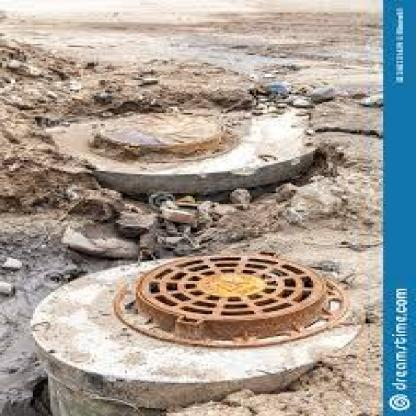closed manhole-not overflowing-: (46, 94, 312, 184)
open drainage-not overflowing-: (106, 239, 363, 359)
